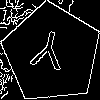Y: (27, 28, 68, 80)
